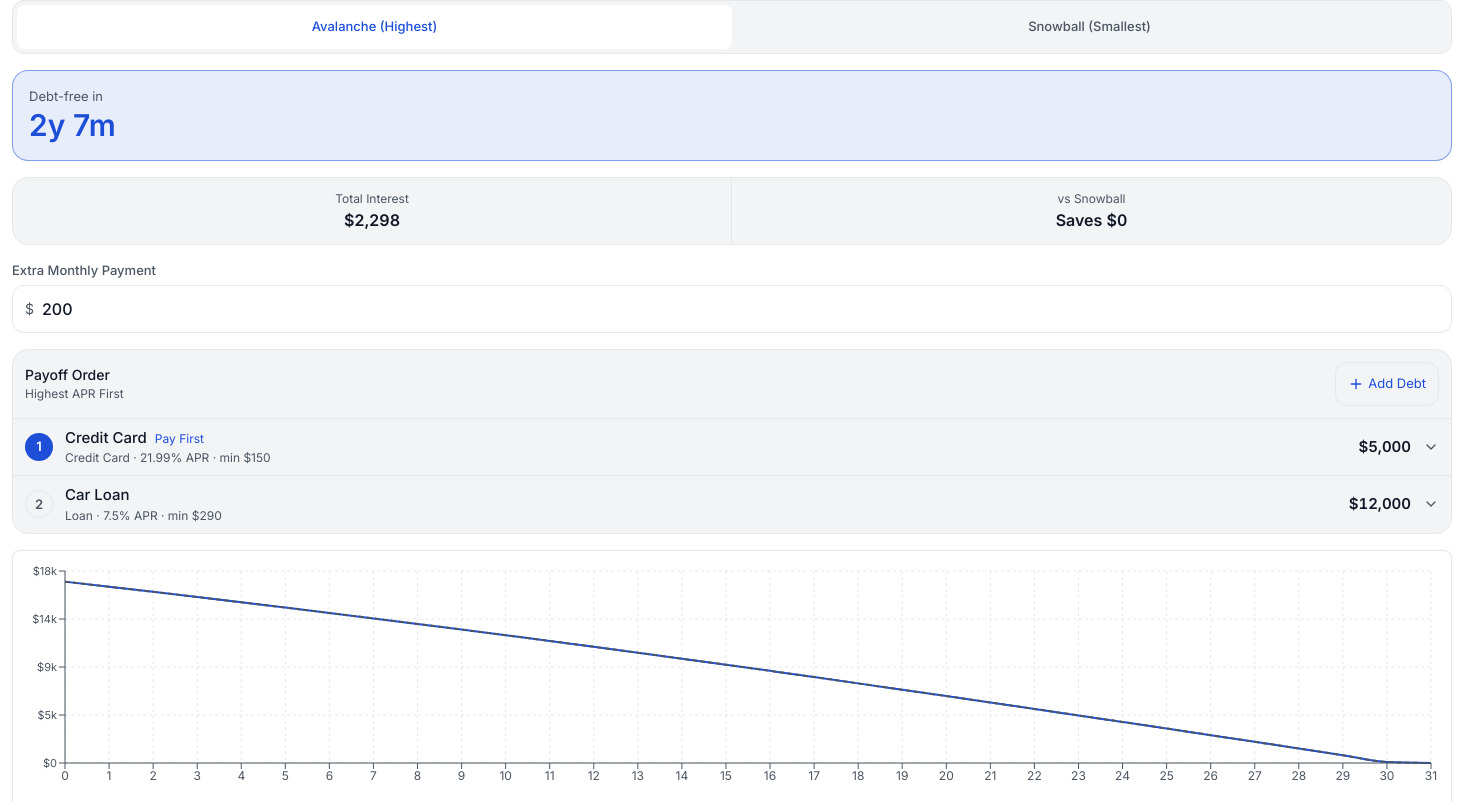
Scenario: ranks debts in payoff order and relabels when the strategy changes
This screenshot has width=1464, height=802.
Expected: the text "Payoff Order" is shown, [25,366,110,383]
Expected: the text "Highest APR First" is shown, [25,386,124,401]
Click the button "Snowball (Smallest)".
click(1090, 27)  # box [732,5,1447,49]
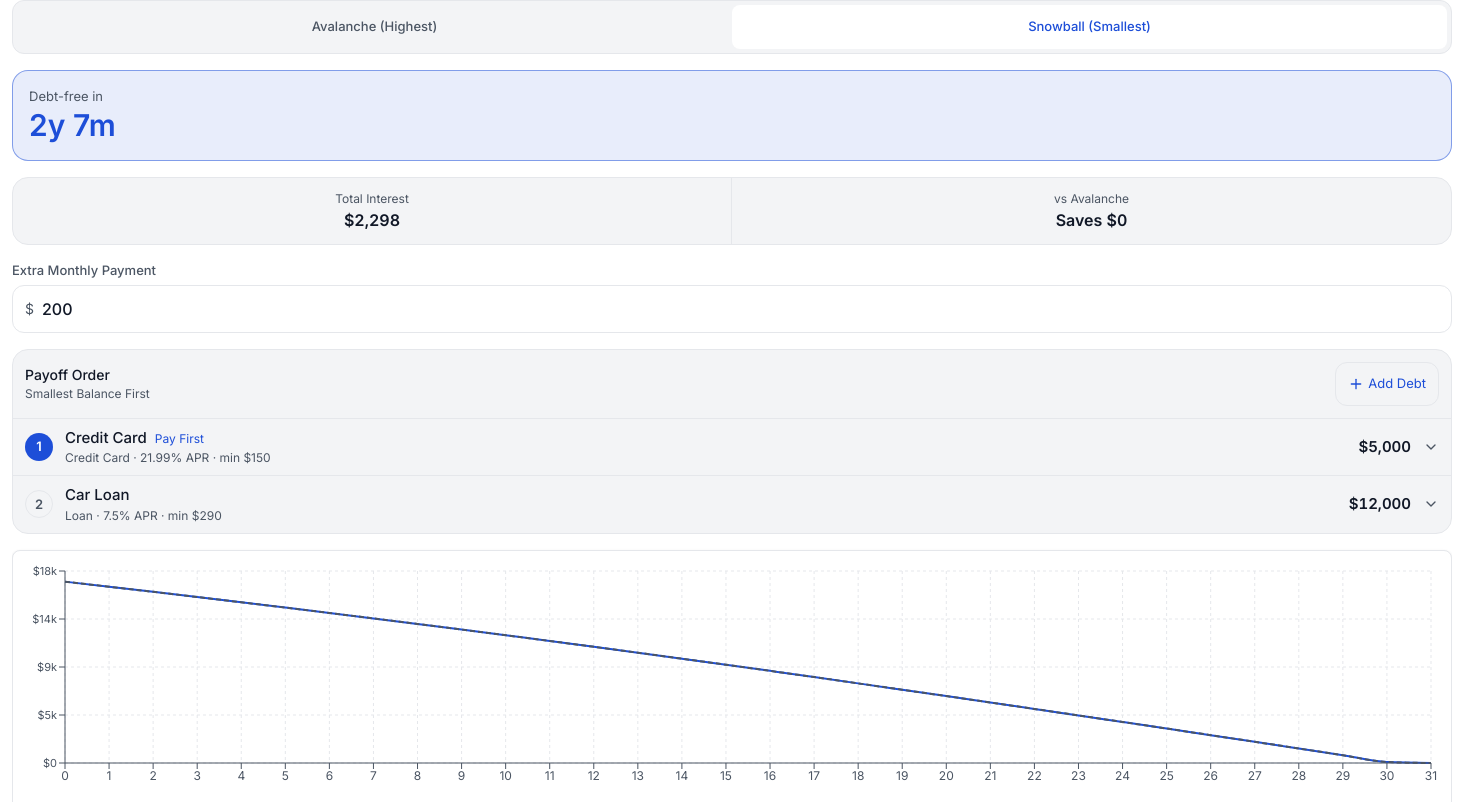
Now the text "Smallest Balance First" is shown, box [25,386,150,401]
Now the text "vs Avalanche" is shown, box [1054,191,1129,206]
